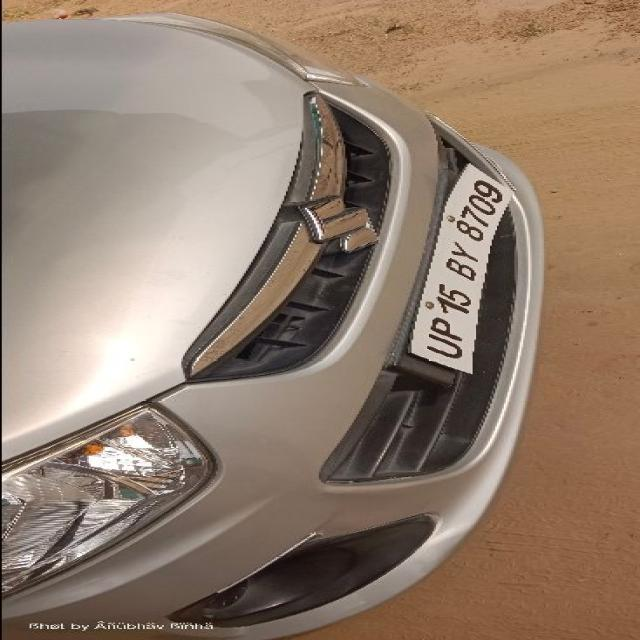license_plate: (2, 11, 546, 638)
